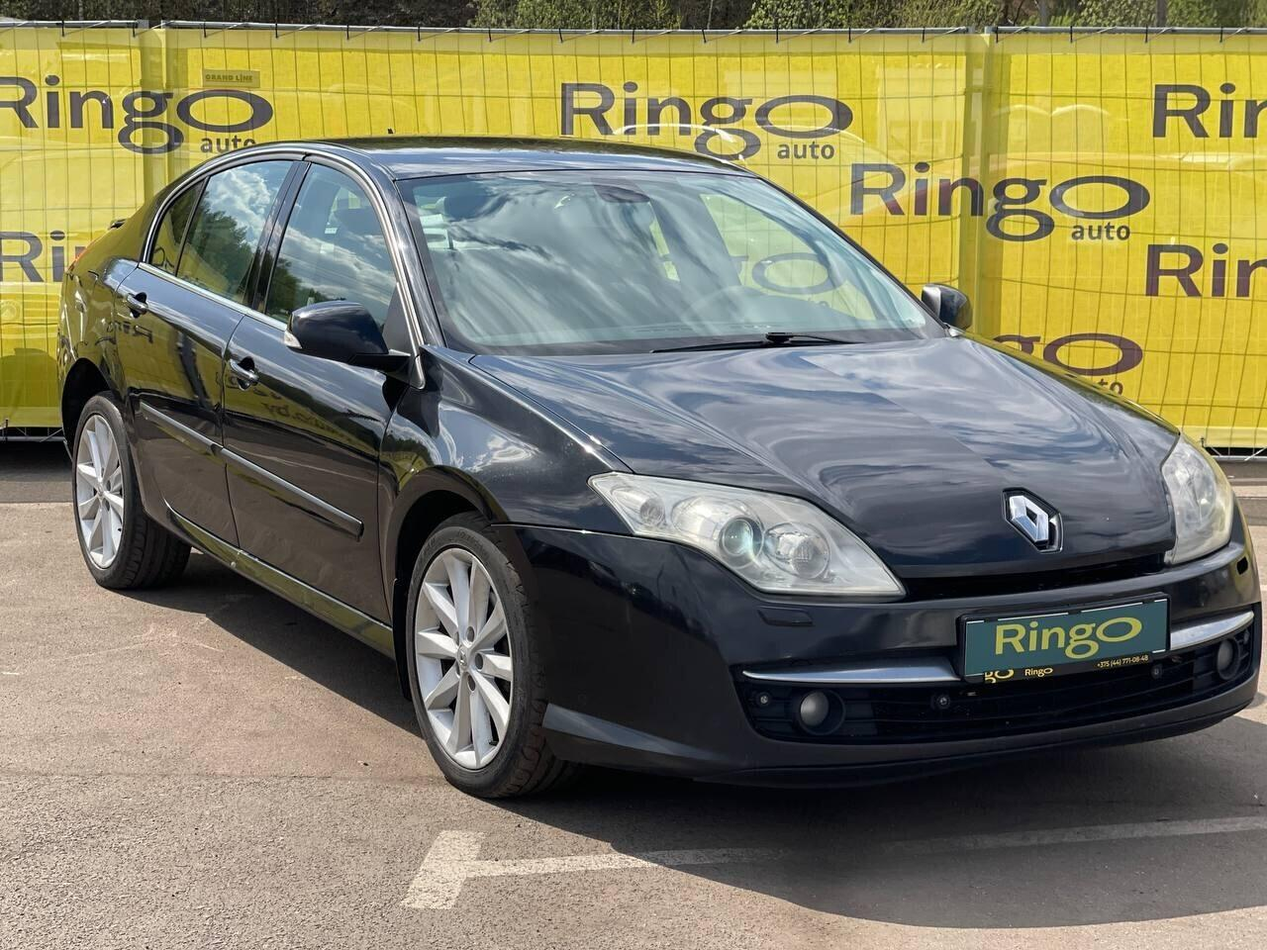Laguna_2007-2011: (54, 136, 1266, 798)
